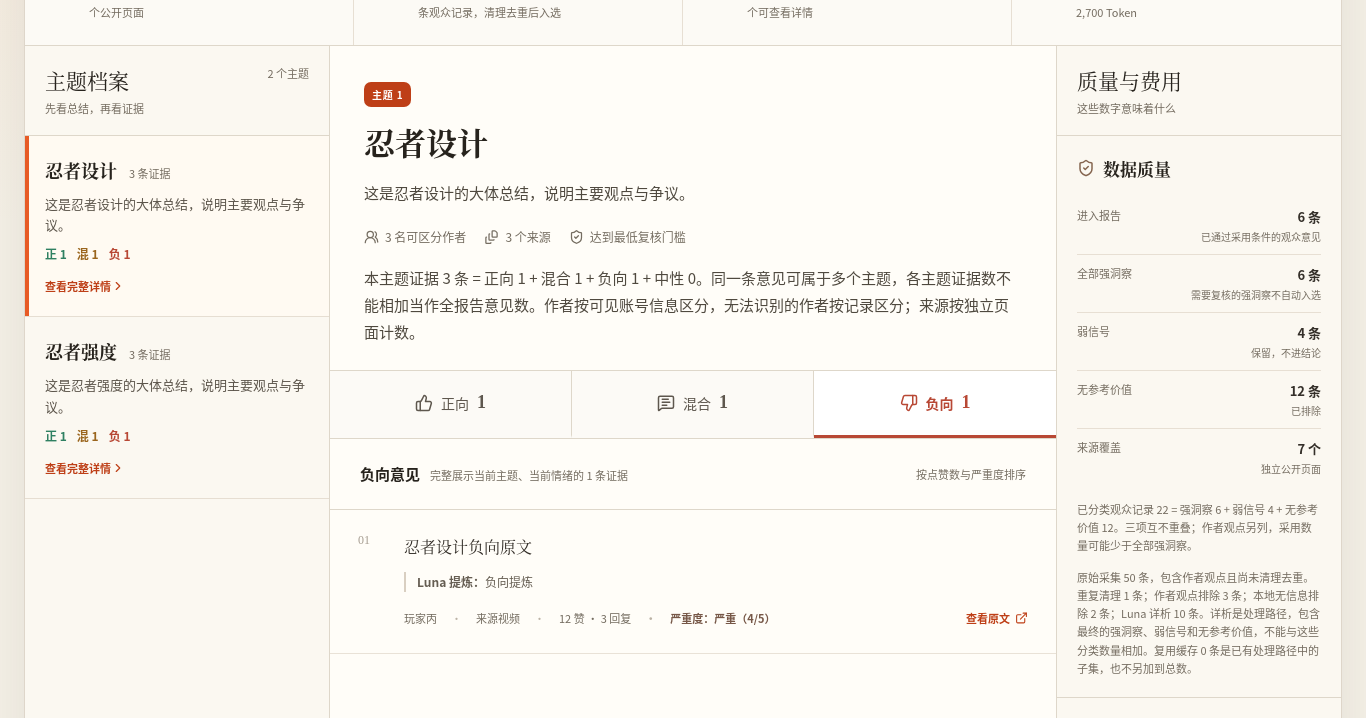
Test: ReportView › navigates topics, separates sentiment sections, and explains Luna usage in Chinese
This screenshot has width=1366, height=718.
(page scrolled)
Check: the text "忍者设计负向原文" is shown, box [404,535,532,558]
Check: the text "2,700 Token" is shown, box [1076,4,1137,20]
Click the tab "混合 1" at (693, 404), box [572,371,814,438]
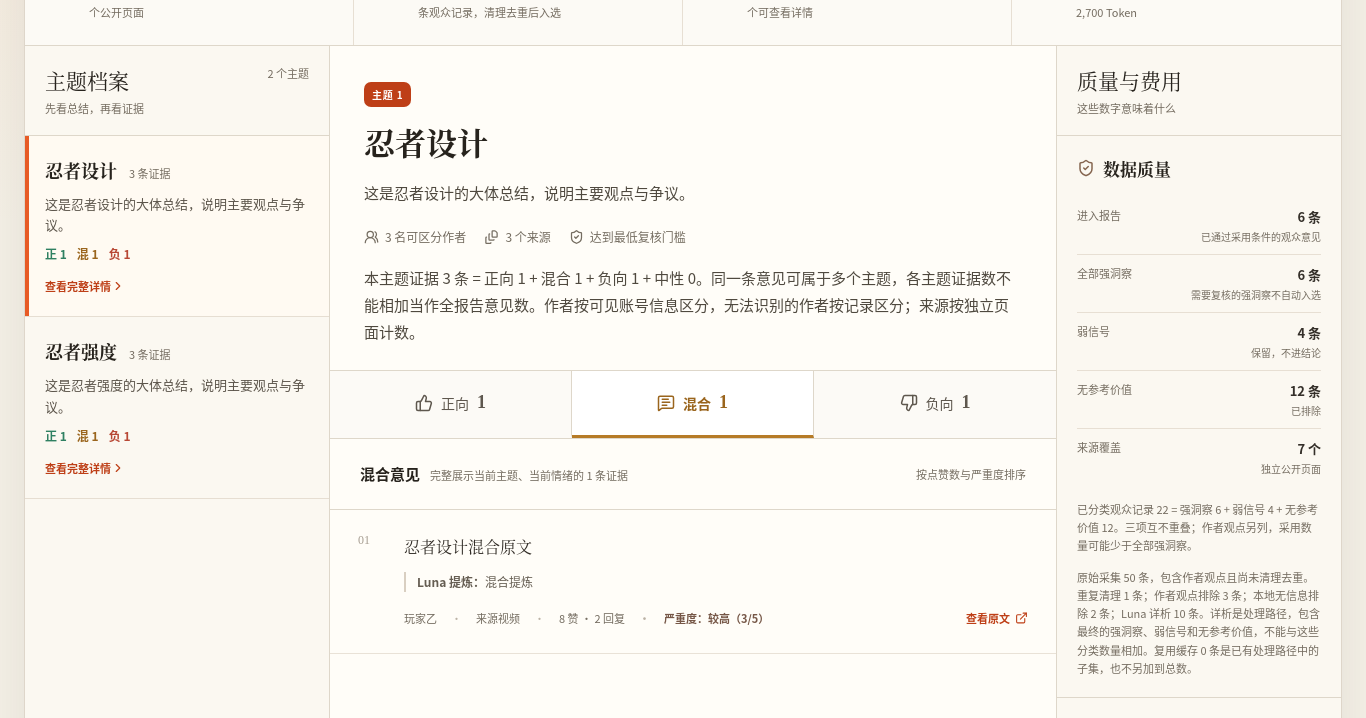
Check: the text "忍者设计混合原文" is shown, box [404,535,532,558]
Check: the text "忍者设计负向原文" is gone
Click the button "忍者强度 3 条证据 这是忍者强度的大体总结，说明主要观点与争议。 正 1 混 1 负 1 查看完整详情" at (81, 351), box [25,318,329,499]
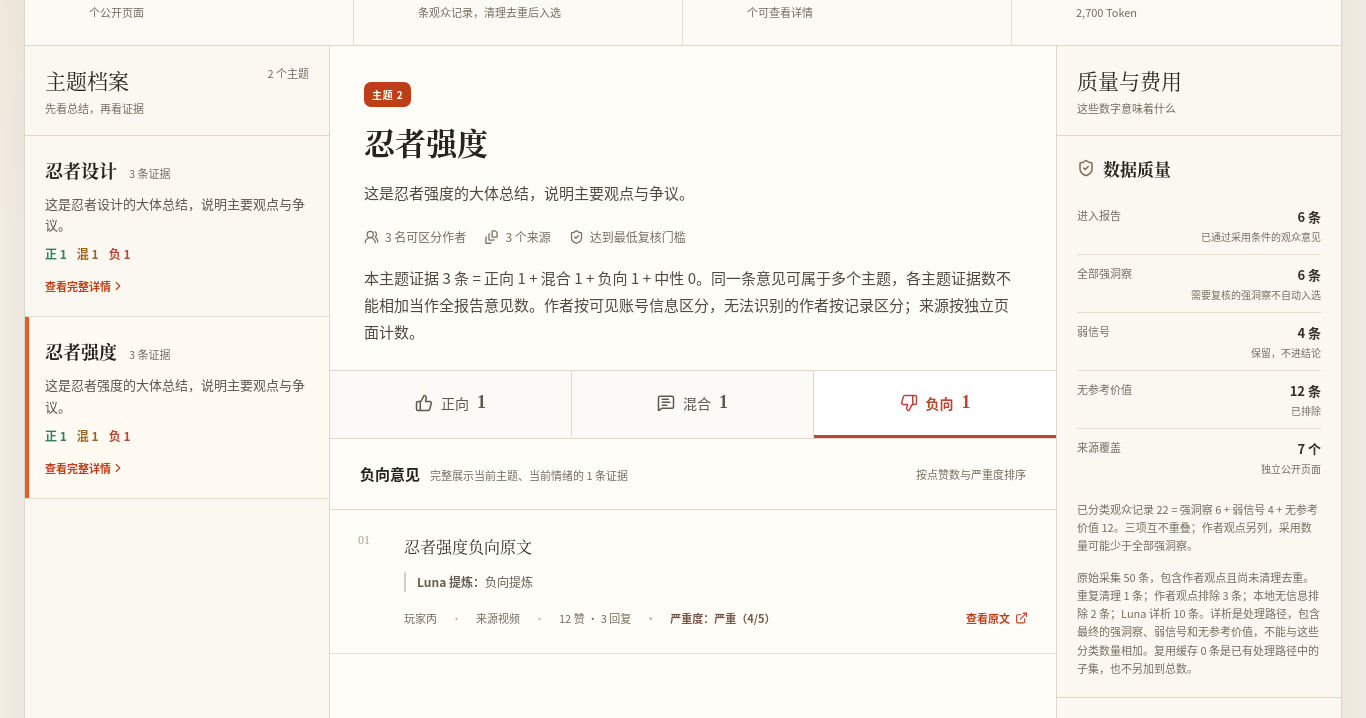
Check: the text "这是忍者强度的大体总结，说明主要观点与争议。" is shown 2 times, box [45,374,309,417]; [364,182,694,203]
Check: the text "忍者强度负向原文" is shown, box [404,535,532,558]
